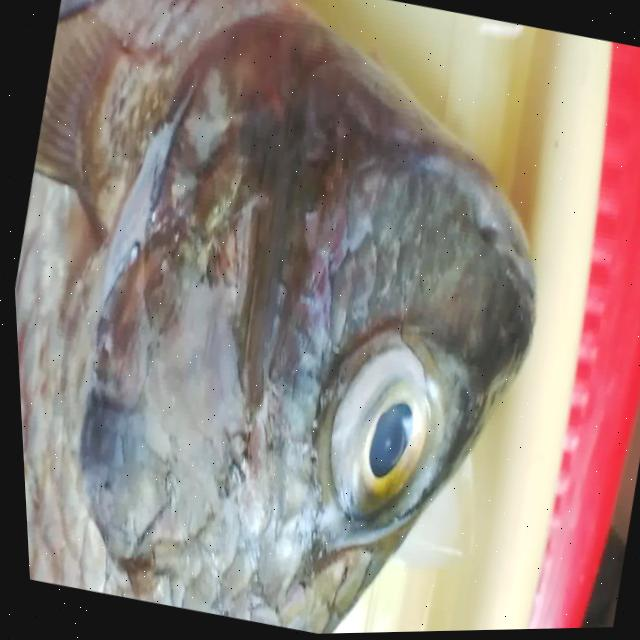Fresh: (274, 285, 492, 592)
